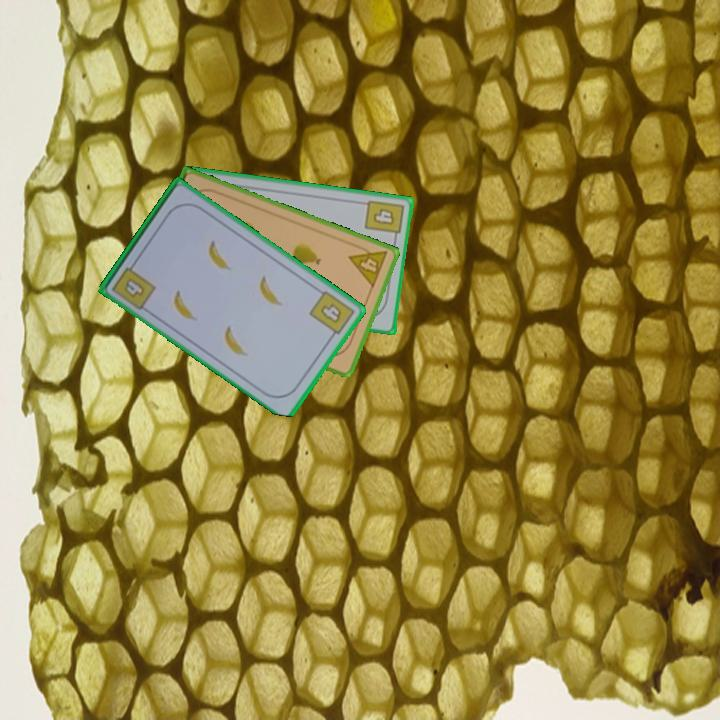4b: (306, 287, 358, 342), (108, 257, 159, 313), (361, 196, 406, 244)
4p: (345, 240, 391, 291)
